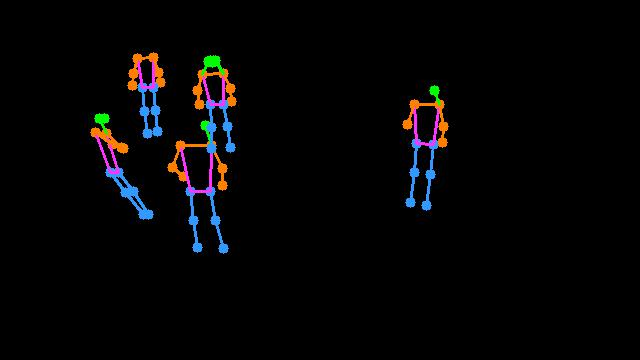normal: (158, 45, 250, 261), (76, 105, 159, 239), (122, 32, 178, 148)
